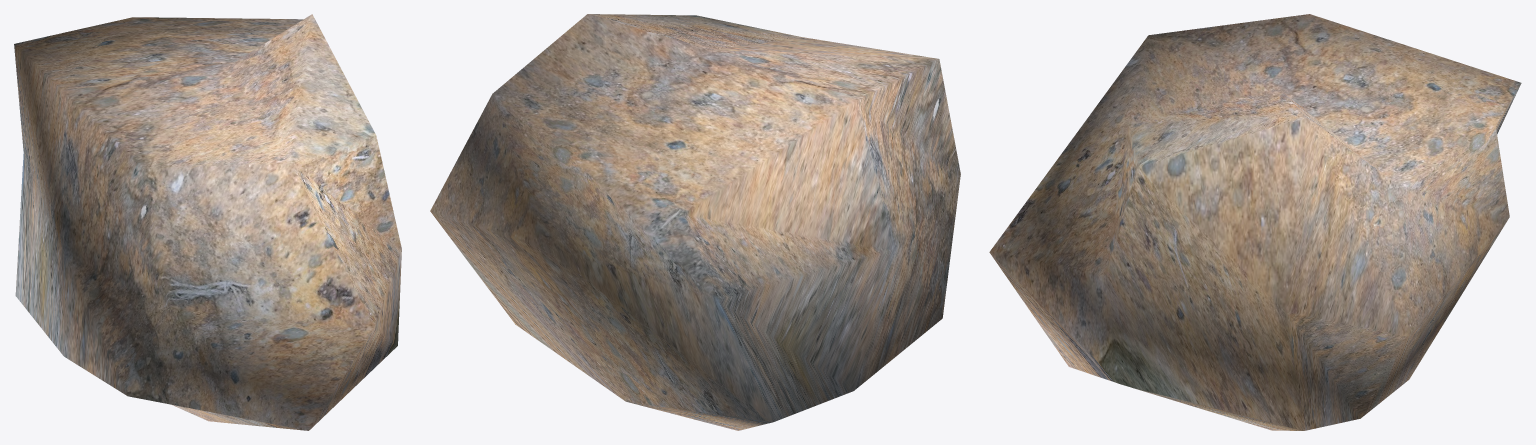
The model's file is rock.glb.
3 renders of one model, left to right at view 1: azimuth 30°, elevation 25°; view 2: azimuth 150°, elevation 25°; view 3: azimuth 270°, elevation 25°, orthographic. The views are drawn at different scales.
Parts seen in each view (by area): view 1: Rock; view 2: Rock; view 3: Rock.
Part boxes in pixels (bbox=[...]): Rock: bbox=[14, 14, 401, 430]; Rock: bbox=[430, 14, 960, 430]; Rock: bbox=[989, 14, 1521, 430].
Size of the model in its own units: 3.45 by 3.35 by 4.34.
1 material, 1 textured.
